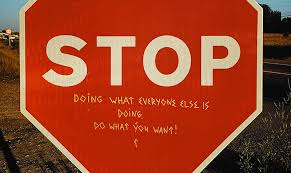stop sign: (19, 1, 263, 173)
